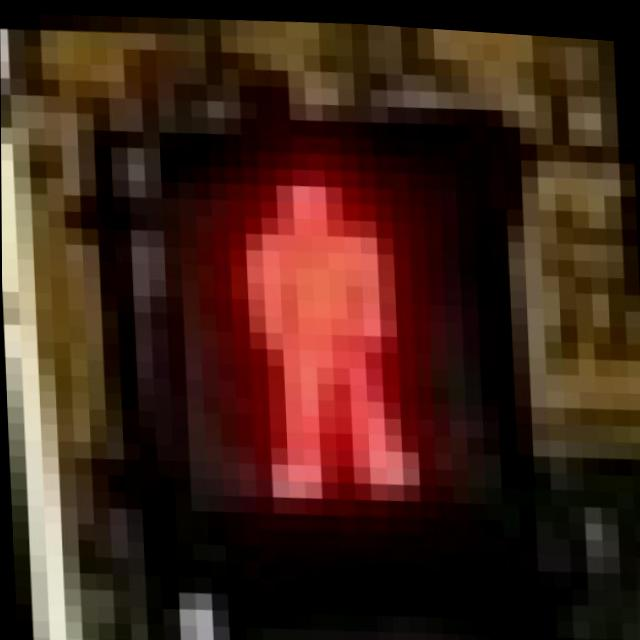red_light: (92, 114, 504, 592)
